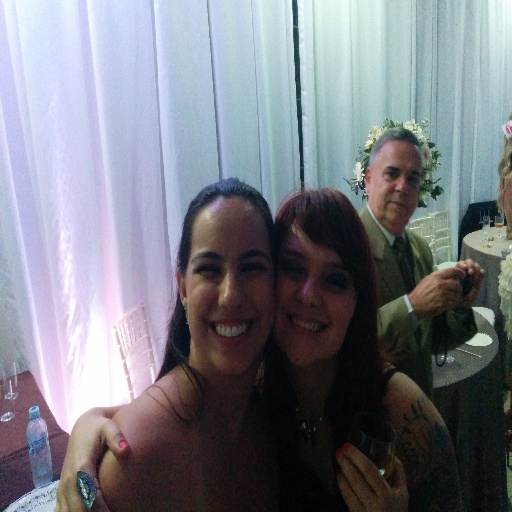hand: (46, 399, 132, 509), (334, 441, 410, 511), (412, 265, 465, 317), (457, 256, 487, 307)
